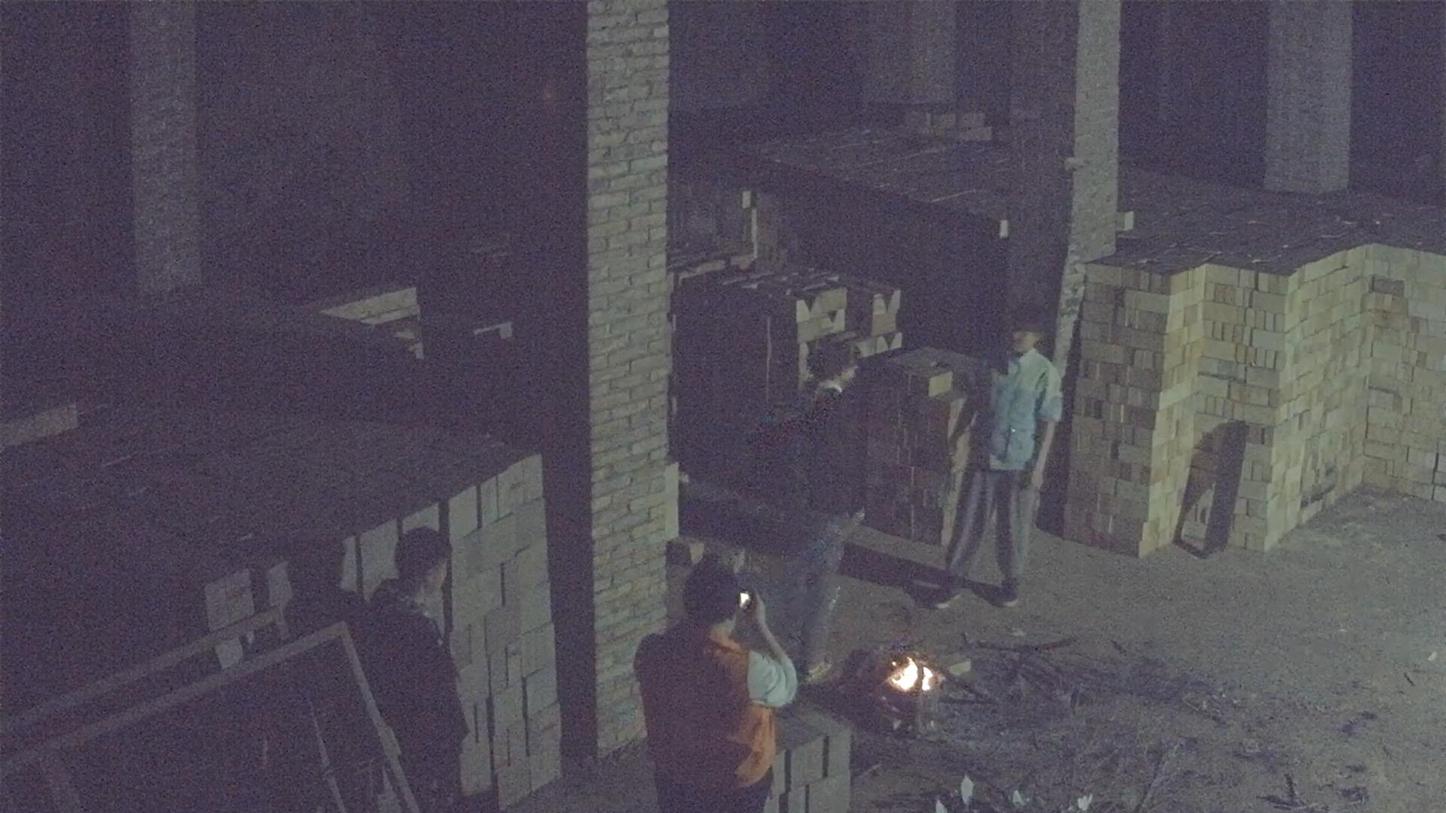fire: (886, 656, 941, 693)
